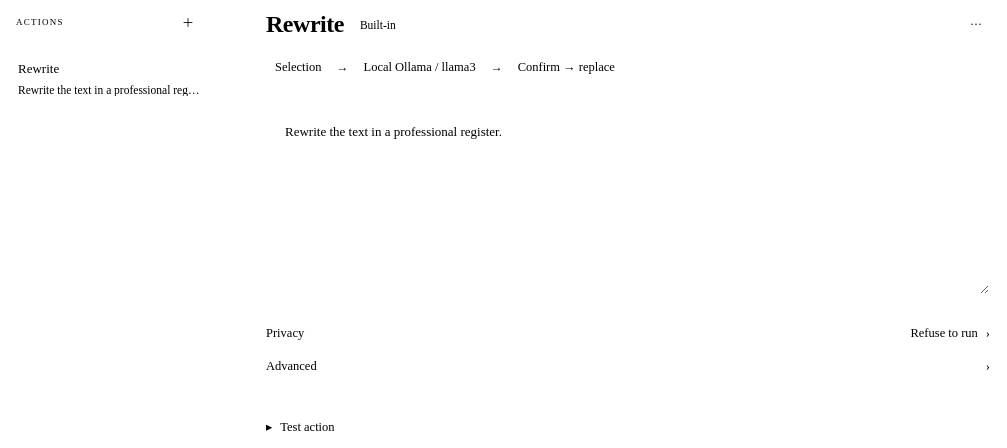
it: ActionsPage — the studio › changes the flow from its token popover, never a native select
The width and height of the screenshot is (1007, 448).
Click the button with aria-label "Input: Selection" at (298, 68), box [266,56,330,79]
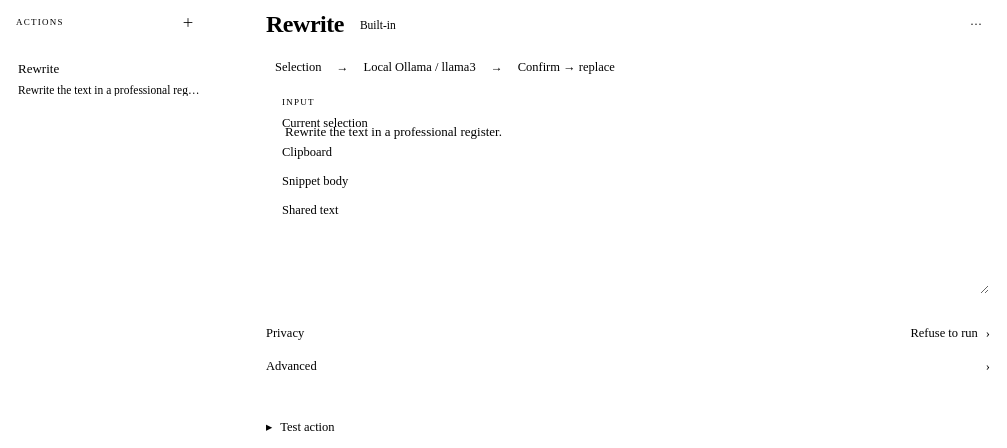
Click the button "Clipboard" at (400, 152), box [272,138,528,167]
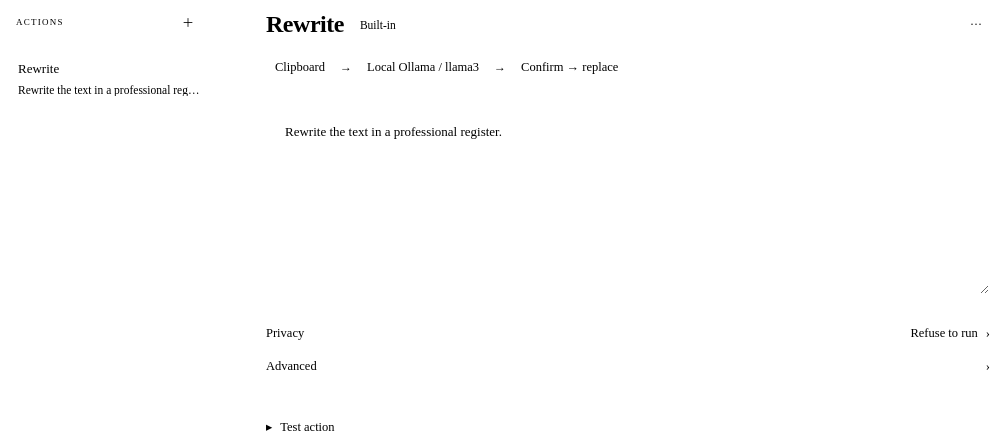
expect the button with aria-label "Input: Clipboard" is shown: met, box [266,56,334,79]
